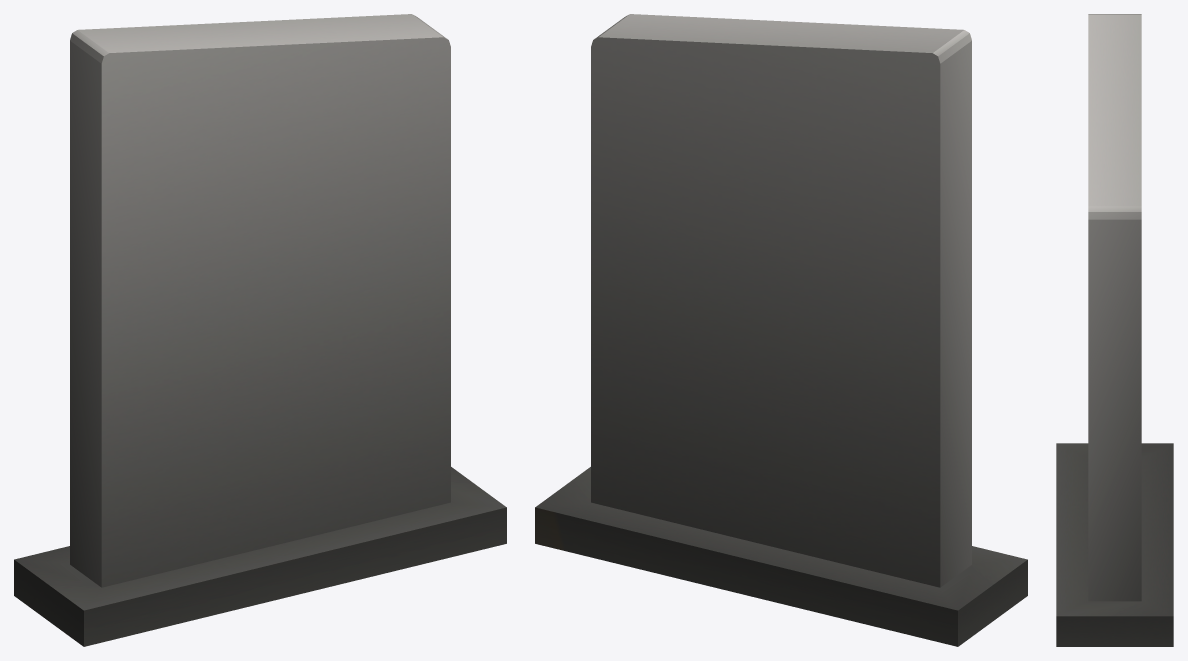
The model's file is tombston_model_04.fbx.
3 renders of one model, left to right at view 1: azimuth 30°, elevation 25°; view 2: azimuth 150°, elevation 25°; view 3: azimuth 270°, elevation 25°, orthographic. The views are drawn at different scales.
Visible parts, largest first — view 1: Cube.003; view 2: Cube.003; view 3: Cube.003.
Boxes of the visible parts, x1,y1,x2,y2 form: Cube.003: [14, 14, 506, 646]; Cube.003: [535, 14, 1027, 646]; Cube.003: [1056, 14, 1173, 646].
Bounding box in the file's own units: 0.7 × 0.9 × 0.2.
